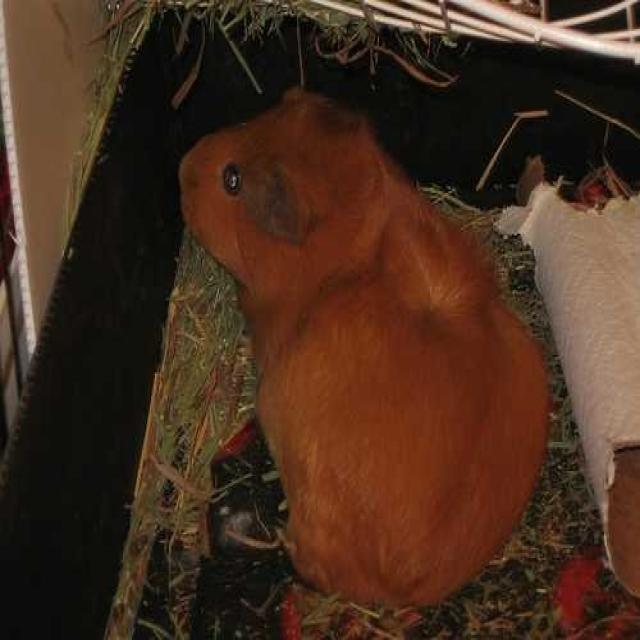guinea pig: (182, 90, 549, 610)
